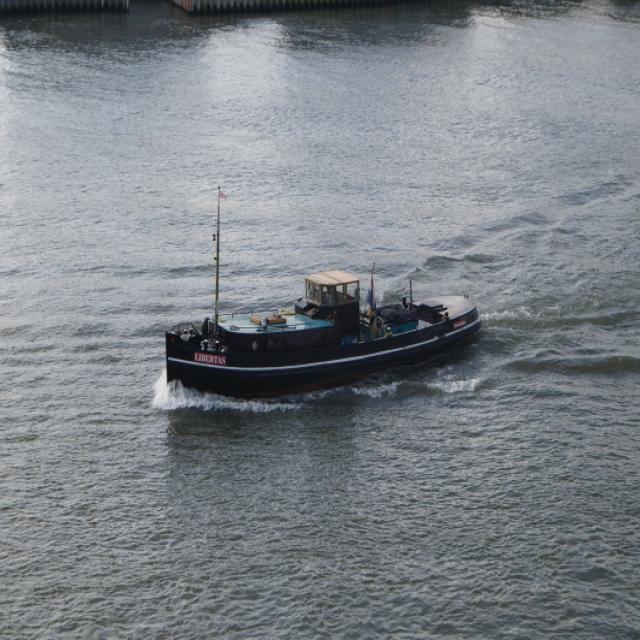tugboat: (162, 262, 484, 410)
